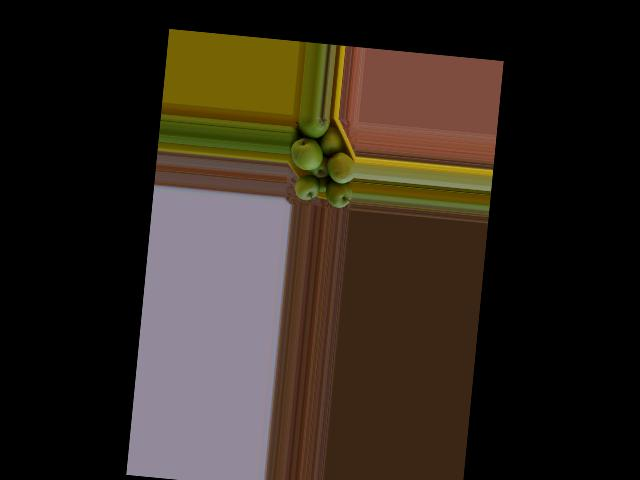apple: (317, 124, 349, 156)
